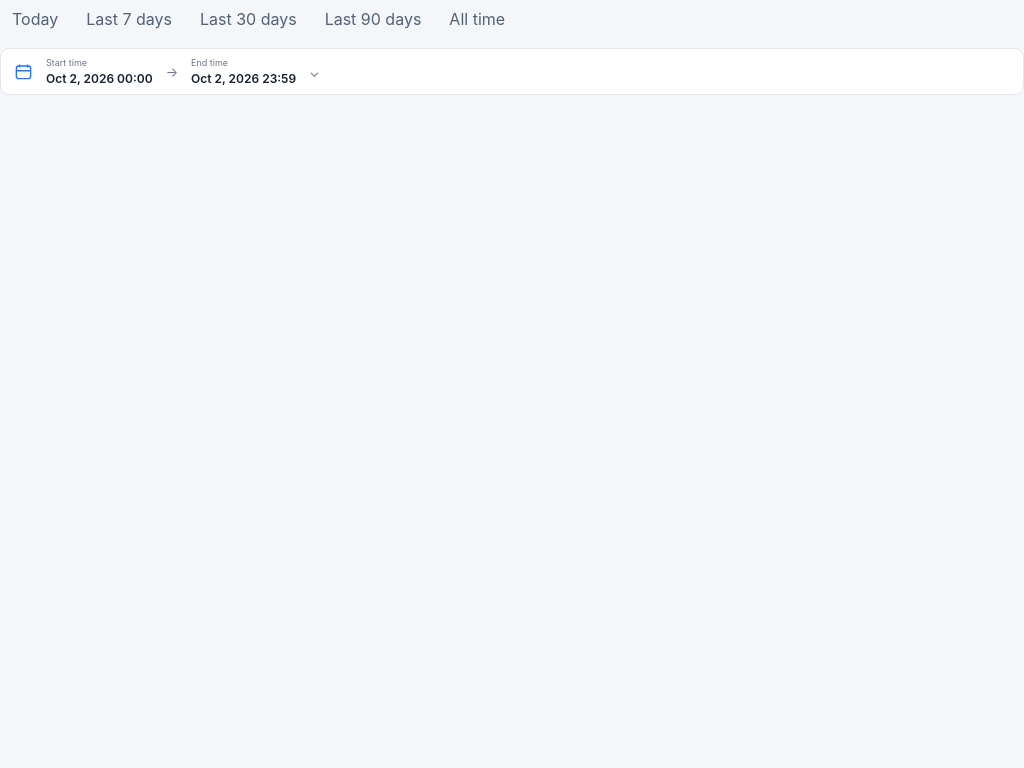
Test case: date controls › highlights estimated history beside confirmed resets without treating an estimated time as an estimated event
This screenshot has width=1024, height=768.
Click the button with aria-label "Select date range,": (67, 62) [0, 48, 1023, 95]
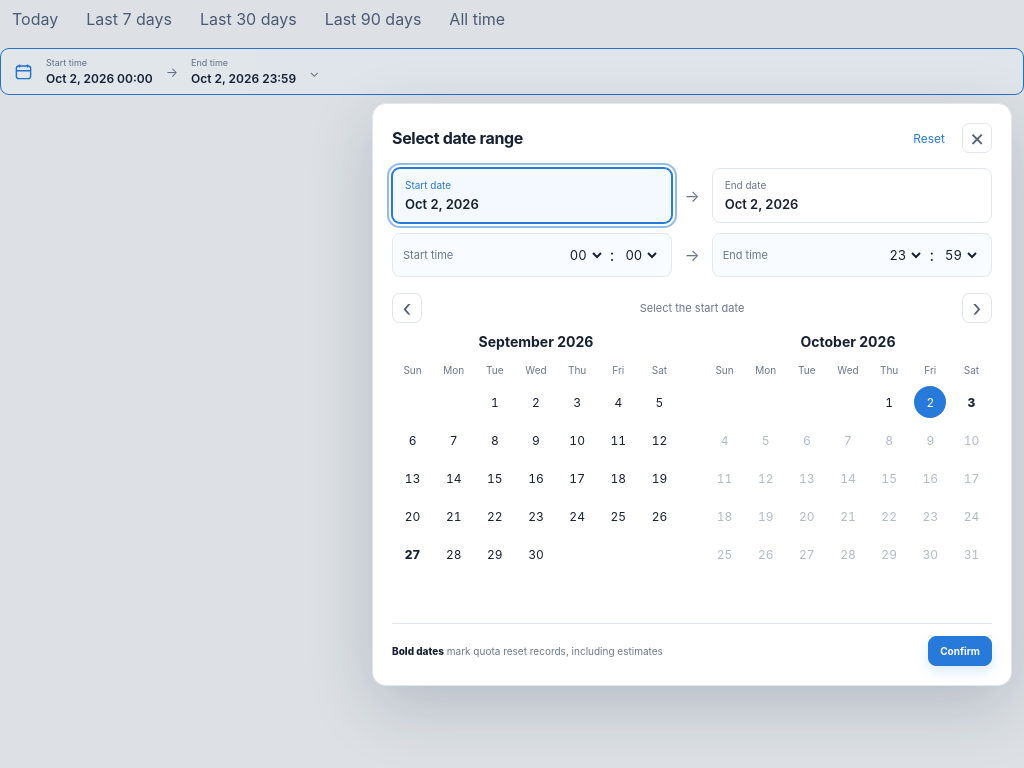
expect the element with class "calendar-footer" shows "including estimates": met, box [447, 645, 663, 657]
